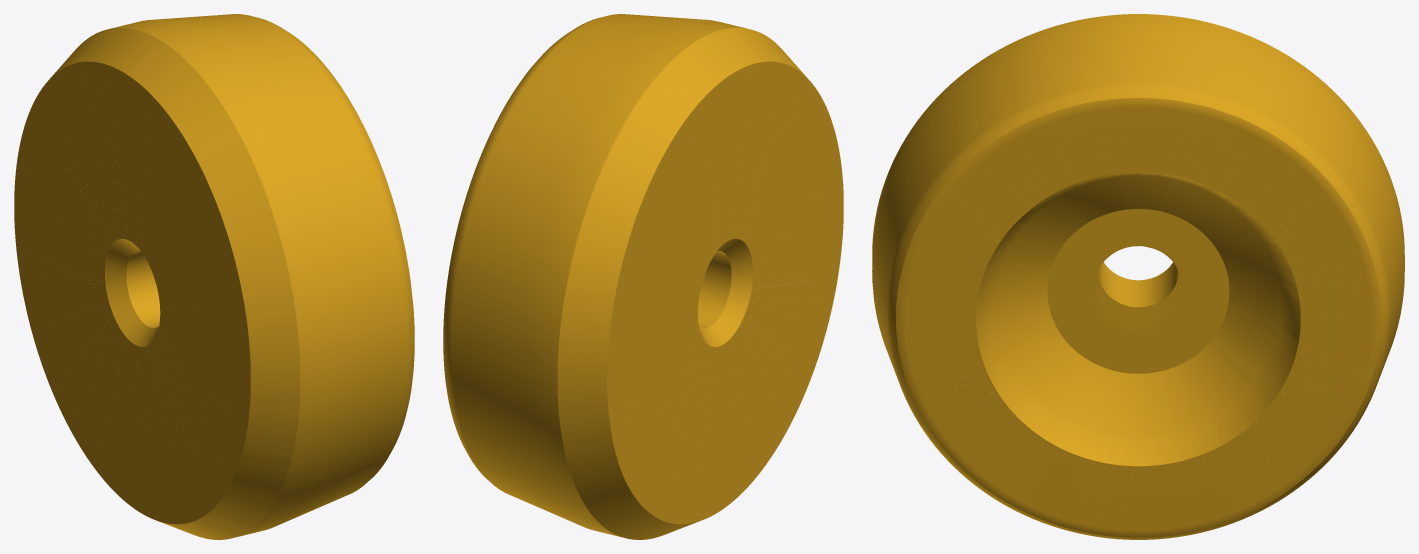
File: takoz-mtb-150-top-buffer-02.glb
The picture shows the model from 3 angles, left to right: view 1: azimuth 30°, elevation 25°; view 2: azimuth 150°, elevation 25°; view 3: azimuth 270°, elevation 25°; orthographic projection.
Visible parts, largest first — view 1: body; view 2: body; view 3: body.
Boxes of the visible parts, x1=… form: body: x1=14, y1=14, x2=414, y2=539; body: x1=443, y1=14, x2=843, y2=539; body: x1=872, y1=14, x2=1404, y2=539.
Bounding box in the file's own units: 0.121 × 0.3315 × 0.3315.
